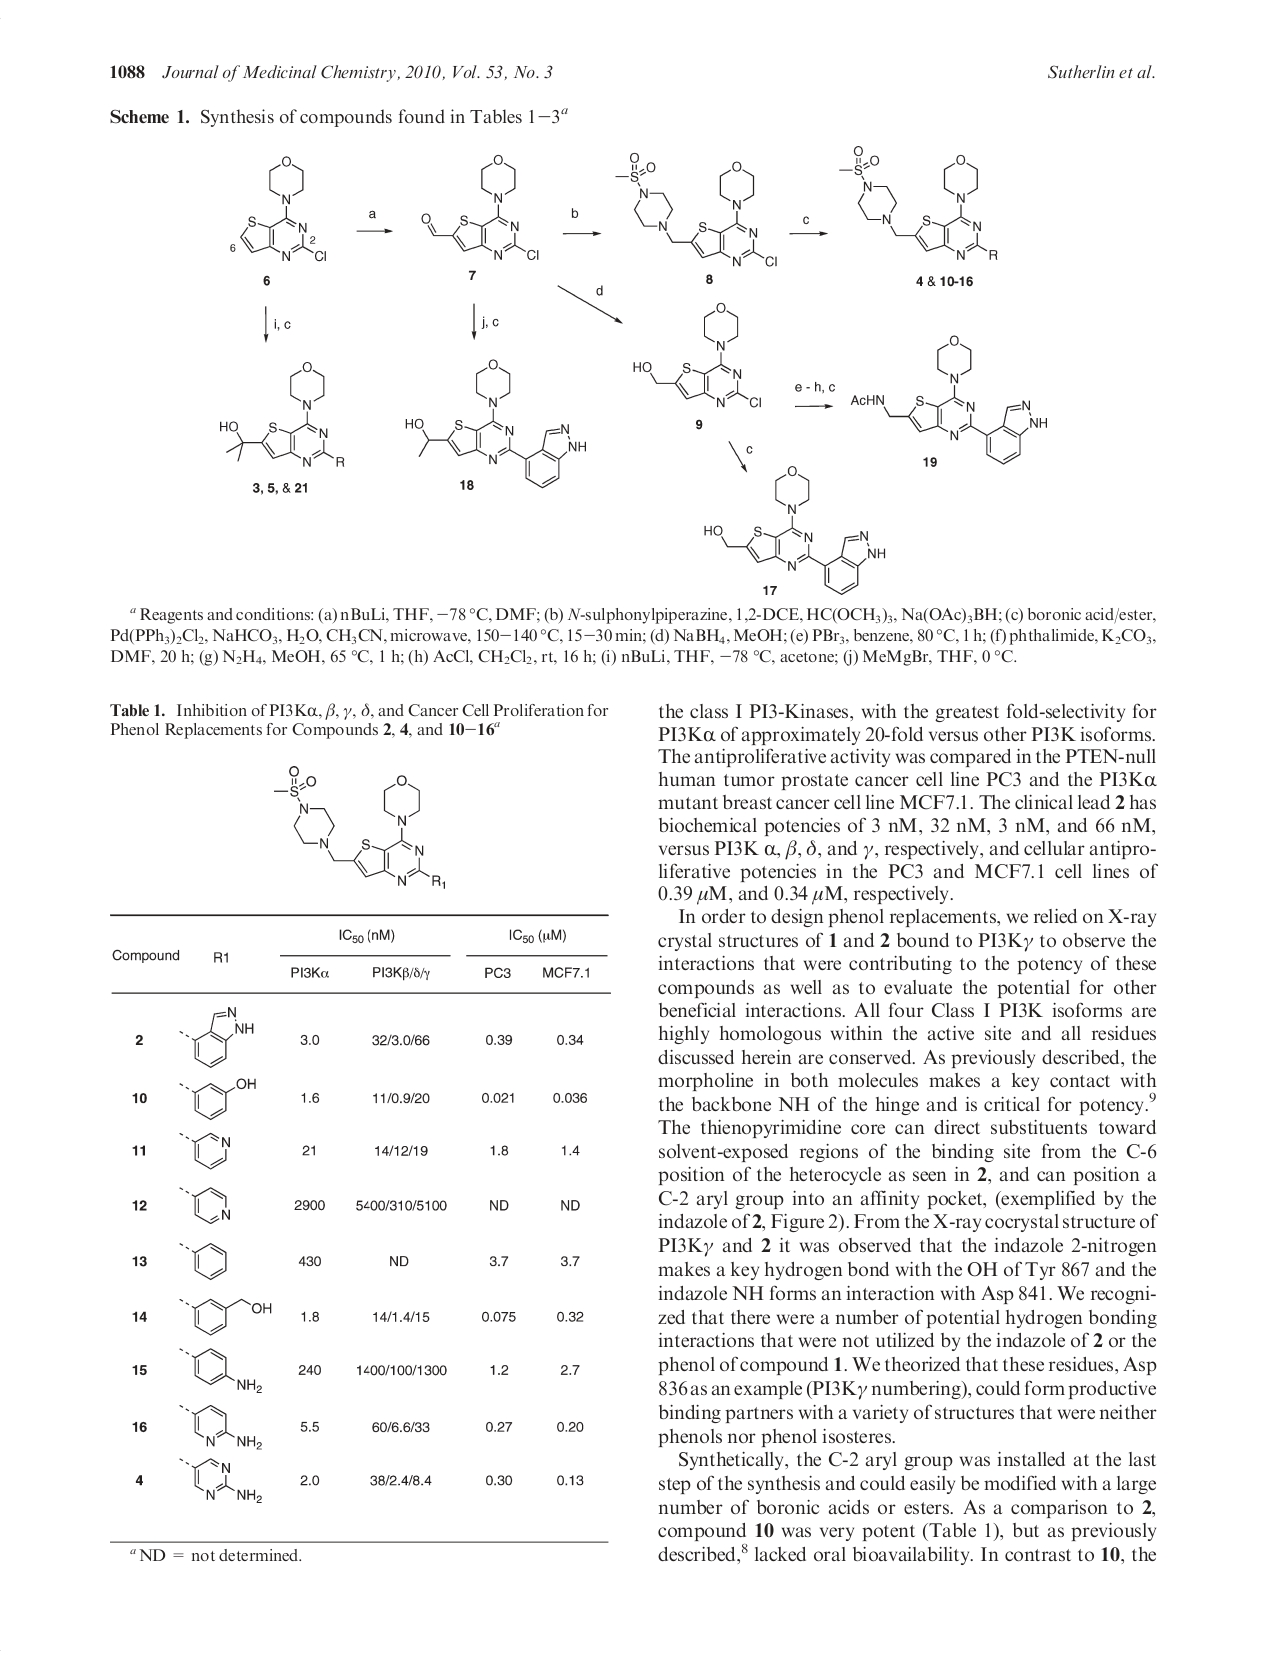exist_molecular: (850, 332, 1051, 467), (404, 356, 588, 489), (702, 464, 887, 596), (273, 763, 449, 892), (614, 149, 779, 269), (838, 142, 1000, 263), (629, 301, 762, 414), (217, 360, 348, 469), (419, 152, 543, 262), (238, 154, 328, 265), (180, 1005, 257, 1071), (177, 1402, 266, 1454), (177, 1345, 263, 1395), (177, 1456, 265, 1505), (176, 1295, 273, 1337), (177, 1079, 258, 1122), (178, 1184, 231, 1225), (178, 1130, 233, 1170), (177, 1241, 227, 1279)
